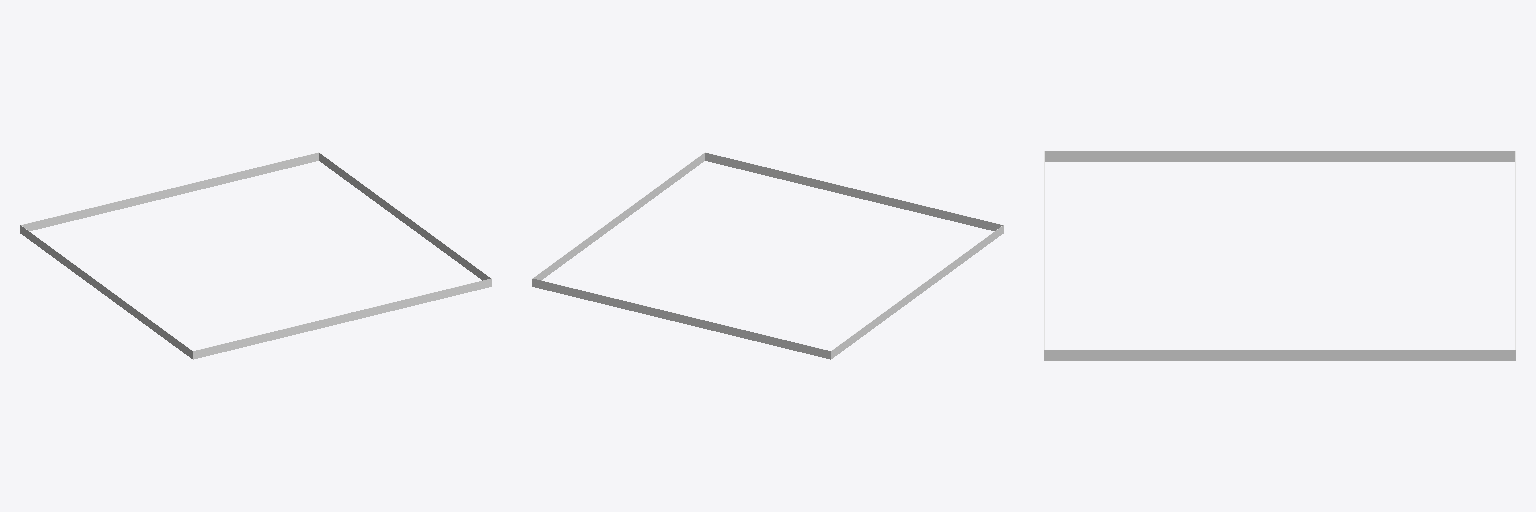
The robot description file, URDF, robot "weilan":
<?xml version="1.0" encoding="utf-8"?>
<!-- This URDF was automatically created by SolidWorks to URDF Exporter! Originally created by [author] ([email redacted]) 
     Commit Version: 1.5.1-0-g916b5db  Build Version: 1.5.7152.31018
     For more information, please see http://wiki.ros.org/sw_urdf_exporter -->
<robot  name="weilan">
  <link    name="weilan">
    <inertial>
      <origin
        xyz="4.3411E-14 -5.43668769682309E-15 0.01"
        rpy="0 0 0" />
      <mass
        value="0.31968" />
      <inertia
        ixx="0.2127"
        ixy="-2.3971E-16"
        ixz="8.19449999999999E-18"
        iyy="0.2127"
        iyz="1.85842762697241E-17"
        izz="0.42539" />
    </inertial>

    <visual>
      <origin
        xyz="0 0 0"
        rpy="1.5707963267949 0 0" />
      <geometry>
        <mesh
          filename="package://battery_pack_describe/meshes/weilan.stl" scale="0.75 2  0.75 "/>
      </geometry>
      <material
        name="">
        <color          rgba="1 1 1 1" />
      </material>
    </visual>

    <collision>
      <origin
        xyz="0 0 0"
        rpy="1.5707963267949 0 0" />
      <geometry>
        <mesh
          filename="package://battery_pack_describe/meshes/weilan.stl" scale="0.75  2  0.75 "/>
      </geometry>
    </collision>

  </link>


    
  <gazebo reference="weilan">
     <material>Gazebo/GreyTransparent</material>
  </gazebo>
  


</robot>

--- What the picture shows (computed from the rendered views, not written in the file) ---
Views: 3 orthographic renders of the robot side by side, from view 1: azimuth 30°, elevation 25°; view 2: azimuth 150°, elevation 25°; view 3: azimuth 270°, elevation 25°.
Model weilan with 1 links and 0 joints (none), rooted at weilan, posed all joints at 0.
Links seen in each view (by area): view 1: weilan; view 2: weilan; view 3: weilan.
Boxes of the visible links, x1,y1,x2,y2 form: weilan: (20,152,491,359); weilan: (532,152,1003,359); weilan: (1044,151,1515,360).
Bounding box of the posed robot: 1.5 × 1.5 × 0.04 m (x, y, z).
Meshes: 1 distinct files referenced, 1 mesh visuals loaded (1 binary STL).
